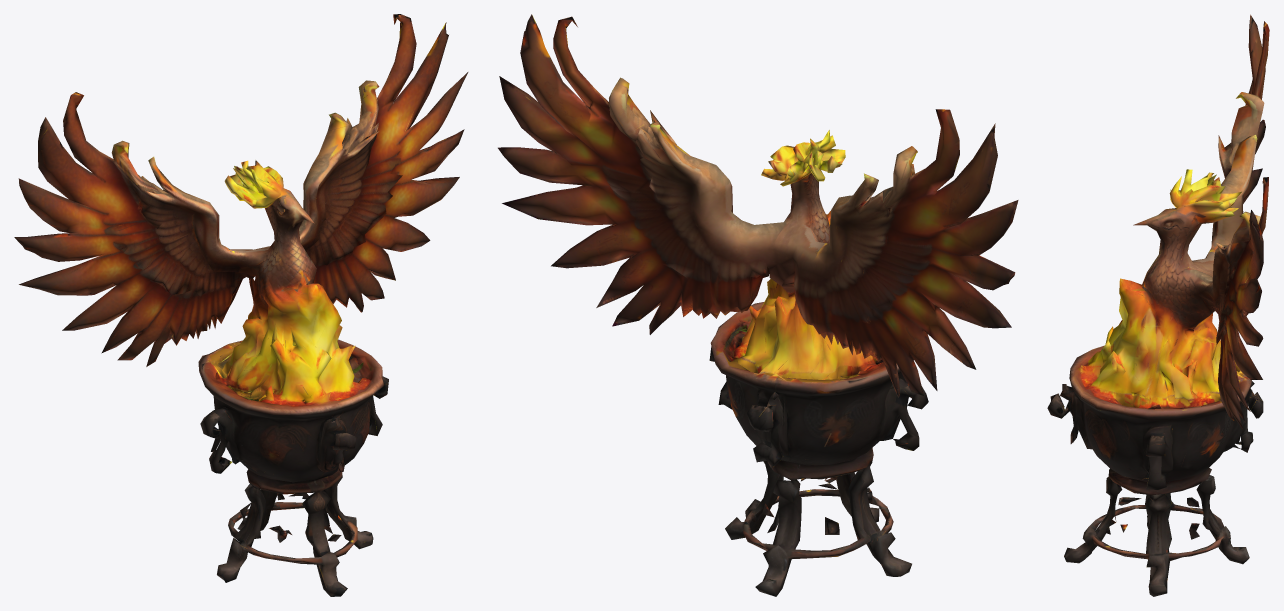
Rendered from Phoenix.glb.
3 views of the same model, side by side, from view 1: azimuth 30°, elevation 25°; view 2: azimuth 150°, elevation 25°; view 3: azimuth 270°, elevation 25° (orthographic). The views are drawn at different scales.
Bounding box in the file's own units: 2 × 1.99 × 0.8722.
1 material, 1 textured.
